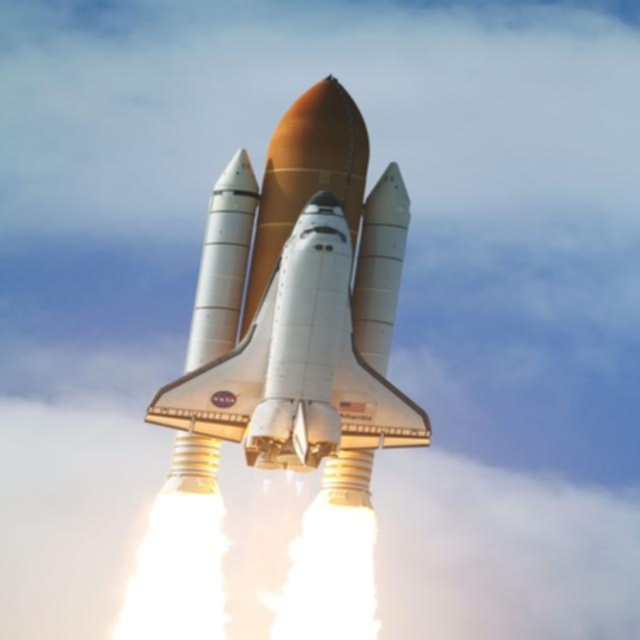medium_debris: (141, 455, 392, 640)
rocket: (133, 171, 443, 483)
